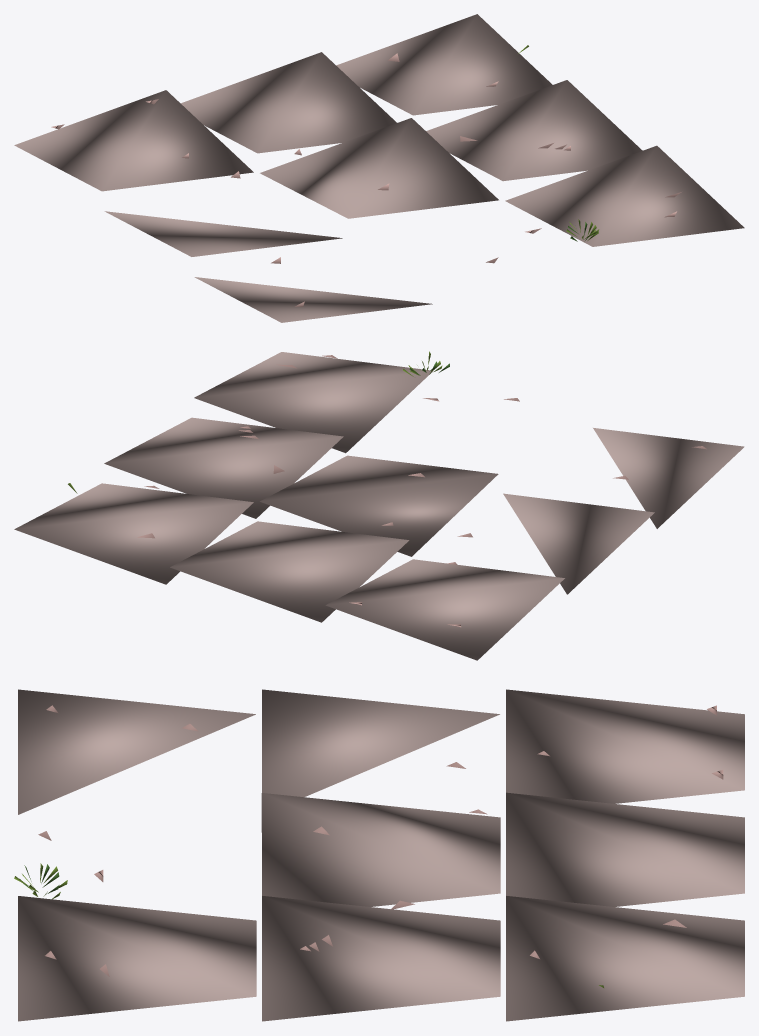
The picture shows the model from 3 angles, top to bottom: view 1: azimuth 30°, elevation 25°; view 2: azimuth 150°, elevation 25°; view 3: azimuth 270°, elevation 25°; orthographic projection. The views are drawn at different scales.
Visible parts, largest first — view 1: root_pal_sidewalk, root_pal_pocketRose; view 2: root_pal_sidewalk, root_pal_pocketRose; view 3: root_pal_sidewalk, root_pal_pocketRose.
Boxes of the visible parts, left/top/right/bottom form: root_pal_sidewalk: left=14, top=14, right=744, bottom=322; root_pal_pocketRose: left=51, top=53, right=681, bottom=306; root_pal_sidewalk: left=14, top=352, right=744, bottom=660; root_pal_pocketRose: left=137, top=355, right=706, bottom=627; root_pal_sidewalk: left=18, top=689, right=744, bottom=1021; root_pal_pocketRose: left=38, top=705, right=723, bottom=976.
Bounding box in the file's own units: 2.98 × 0.219 × 2.99.
